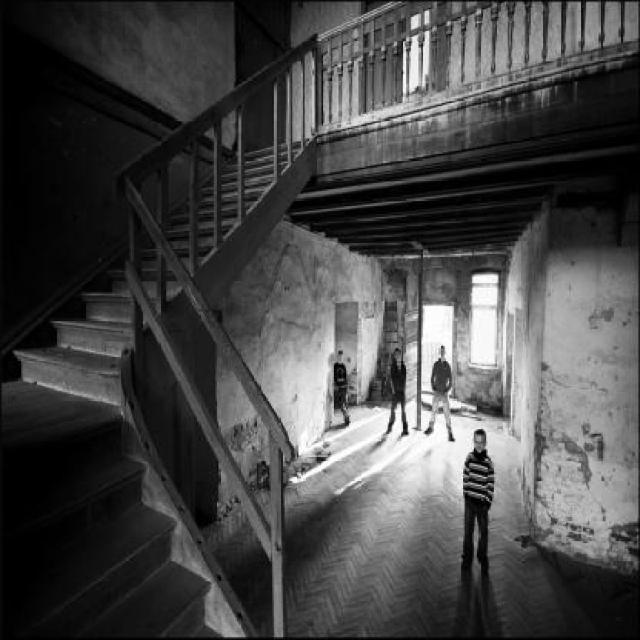stair: (0, 137, 312, 637)
